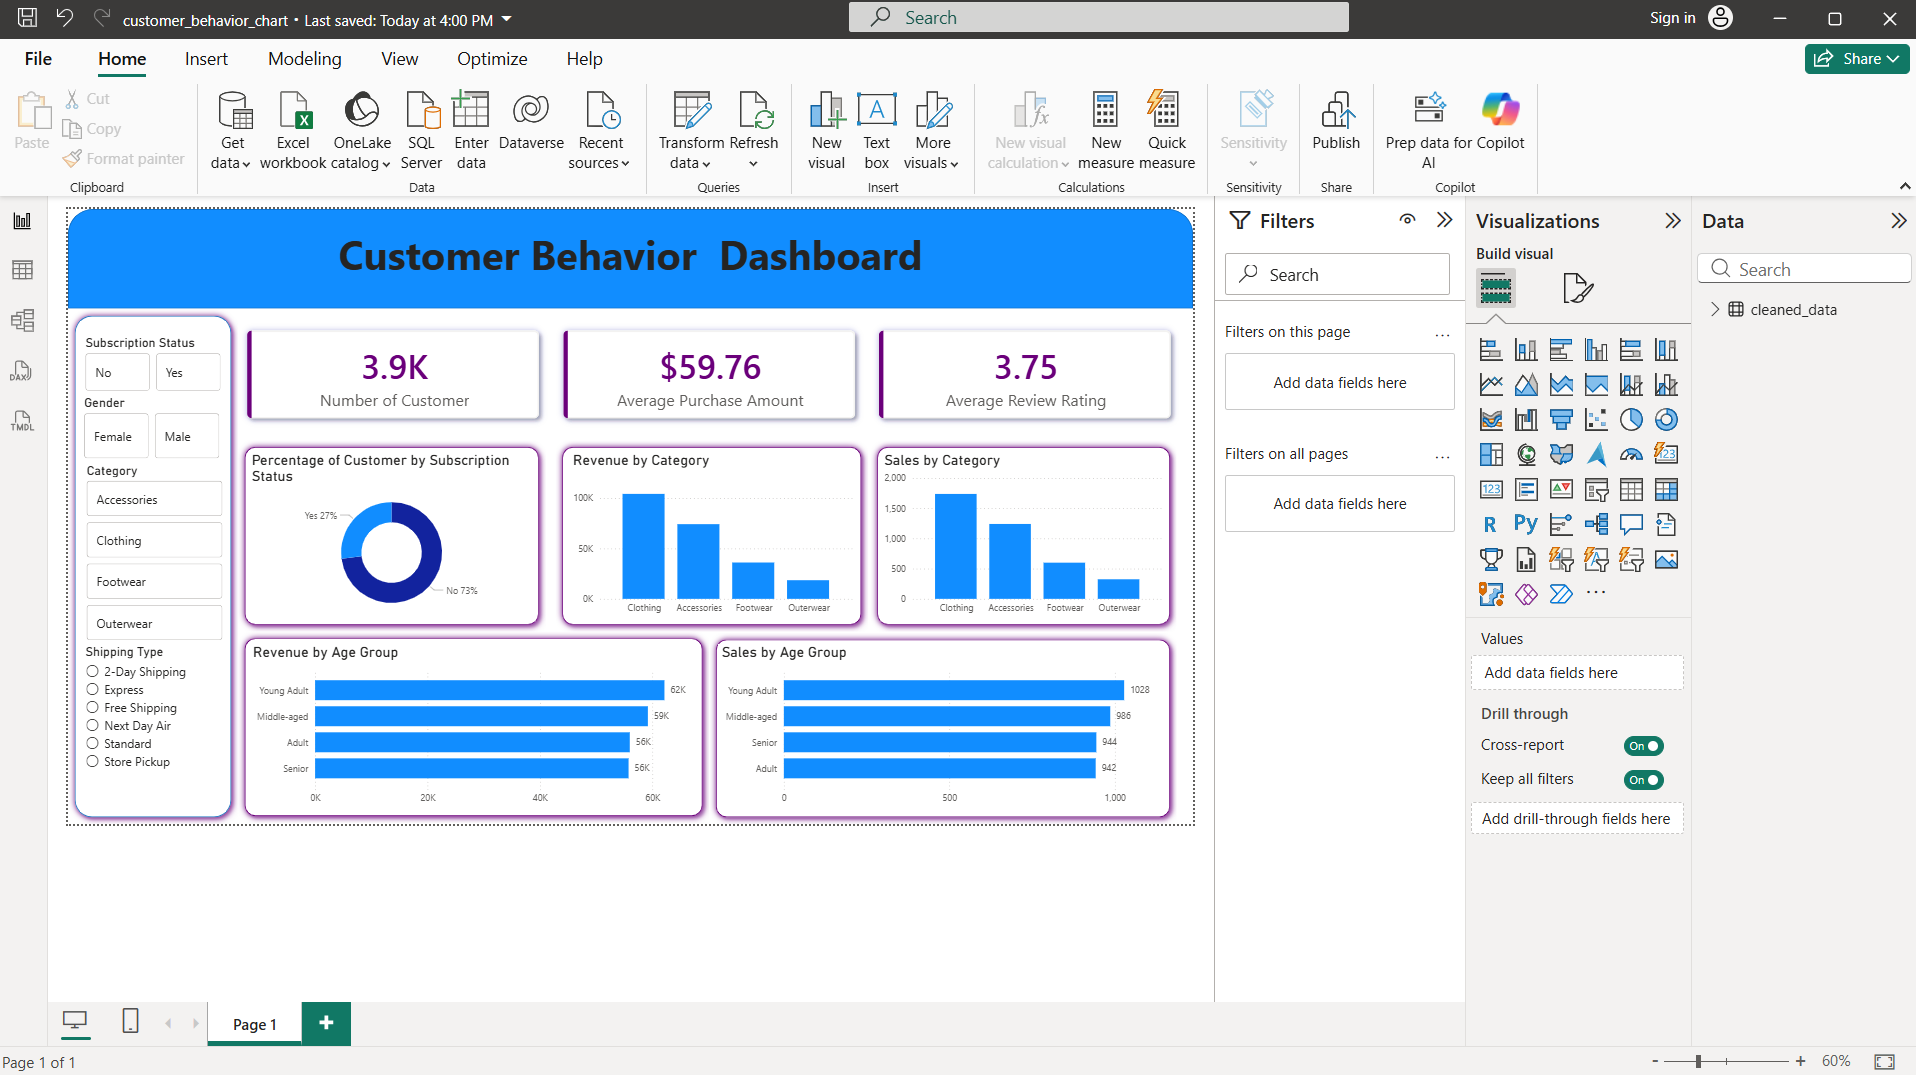

The dashboard page shown, as its layout file describes it:
{"tool":"powerbi","page":{"name":"Page 1","canvas":[1500,820],"ordinal":0},"visuals":[{"type":"cardVisual","fields":{"Data":["cleaned_data.Number of Customer","cleaned_data.Average Purchase Amount","cleaned_data.Average Review Rating"]},"box":[210,133.3,1290,175],"z":0},{"type":"shape","box":[0,0,1500,132.8],"z":1000},{"type":"textbox","box":[0,18,1500,114.8],"z":2000},{"type":"shape","box":[226.7,308.3,410,255],"z":3000},{"type":"donutChart","title":"Percentage of  Customer  by Subscription Status","fields":{"Category":["cleaned_data.subscription_status"],"Y":["CountNonNull(cleaned_data.customer_id)"]},"box":[240,323.3,383.3,226.7],"z":4000},{"type":"shape","box":[650,308.3,416.7,255],"z":5000},{"type":"shape","box":[1070,308.3,408.3,255],"z":6000},{"type":"clusteredColumnChart","title":"Revenue by Category","fields":{"Y":["Sum(cleaned_data.purchase_amount)"],"Category":["cleaned_data.category"]},"box":[668.3,323.3,383.3,226.7],"z":7000},{"type":"clusteredColumnChart","title":"Sales by Category","fields":{"Y":["CountNonNull(cleaned_data.customer_id)"],"Category":["cleaned_data.category"]},"box":[1083.3,323.3,381.7,226.7],"z":8000},{"type":"shape","box":[0,133.3,226.7,686.7],"z":9000},{"type":"advancedSlicerVisual","title":"Subscription Status","fields":{"Values":["cleaned_data.subscription_status"]},"box":[18.3,168.3,191.7,80],"z":10000},{"type":"advancedSlicerVisual","title":"Gender","fields":{"Values":["cleaned_data.gender"]},"box":[16.7,248.3,191.7,90],"z":11000},{"type":"advancedSlicerVisual","title":"Category","fields":{"Values":["cleaned_data.category"]},"box":[20,338.3,191.7,241.7],"z":12000},{"type":"listSlicer","title":"Shipping Type","fields":{"Values":["cleaned_data.shipping_type"]},"box":[18.3,580,180,223.3],"z":13000},{"type":"shape","box":[226.7,563.3,628.3,255],"z":14000},{"type":"shape","box":[855,565,623.3,255],"z":15000},{"type":"clusteredBarChart","title":"Revenue by Age Group","fields":{"Y":["Sum(cleaned_data.purchase_amount)"],"Category":["cleaned_data.age_group"]},"box":[241.7,580,598.3,223.3],"z":16000},{"type":"clusteredBarChart","title":"Sales by Age Group","fields":{"Y":["CountNonNull(cleaned_data.customer_id)"],"Category":["cleaned_data.age_group"]},"box":[866.7,580,598.3,223.3],"z":17000}]}

Visuals, with their boxes on the page's 1500x820 design canvas (x1, y1, x2, y2). These are canvas units, not pixel positions in the 1916x1075 screenshot, which may show the page scaled, cropped or inside an application window:
cardVisual - cleaned_data.Number of Customer x cleaned_data.Average Purchase Amount: [left=210, top=133, right=1500, bottom=308]
shape: [left=0, top=0, right=1500, bottom=133]
textbox: [left=0, top=18, right=1500, bottom=133]
shape: [left=227, top=308, right=637, bottom=563]
"Percentage of  Customer  by Subscription Status" donutChart: [left=240, top=323, right=623, bottom=550]
shape: [left=650, top=308, right=1067, bottom=563]
shape: [left=1070, top=308, right=1478, bottom=563]
"Revenue by Category" clusteredColumnChart: [left=668, top=323, right=1052, bottom=550]
"Sales by Category" clusteredColumnChart: [left=1083, top=323, right=1465, bottom=550]
shape: [left=0, top=133, right=227, bottom=820]
"Subscription Status" advancedSlicerVisual: [left=18, top=168, right=210, bottom=248]
"Gender" advancedSlicerVisual: [left=17, top=248, right=208, bottom=338]
"Category" advancedSlicerVisual: [left=20, top=338, right=212, bottom=580]
"Shipping Type" listSlicer: [left=18, top=580, right=198, bottom=803]
shape: [left=227, top=563, right=855, bottom=818]
shape: [left=855, top=565, right=1478, bottom=820]
"Revenue by Age Group" clusteredBarChart: [left=242, top=580, right=840, bottom=803]
"Sales by Age Group" clusteredBarChart: [left=867, top=580, right=1465, bottom=803]
